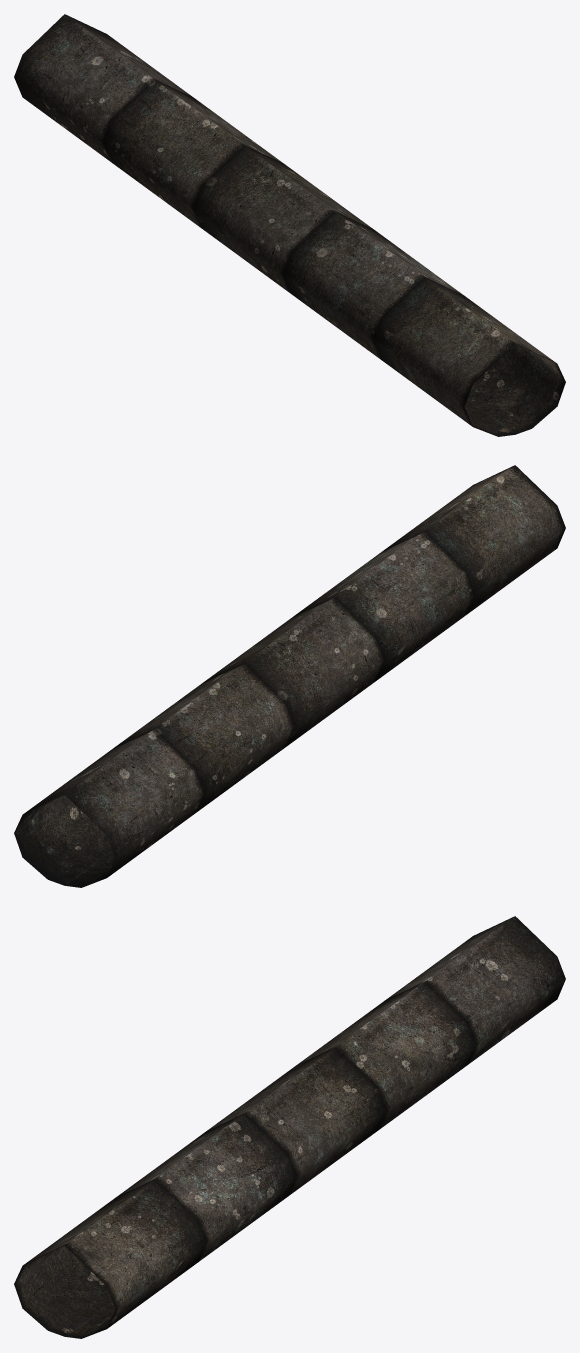
File: large_straight_long.dae
3 views of the same model, one above another, from view 1: azimuth 30°, elevation 25°; view 2: azimuth 150°, elevation 25°; view 3: azimuth 330°, elevation 25° (orthographic).
Visible parts, largest first — view 1: tentacle_straight_long; view 2: tentacle_straight_long; view 3: tentacle_straight_long.
Part boxes in pixels (x1=…): tentacle_straight_long: x1=14, y1=14, x2=565, y2=436; tentacle_straight_long: x1=14, y1=465, x2=565, y2=887; tentacle_straight_long: x1=14, y1=916, x2=565, y2=1338.
Size of the model in its own units: 0.52 by 0.4458 by 4.
